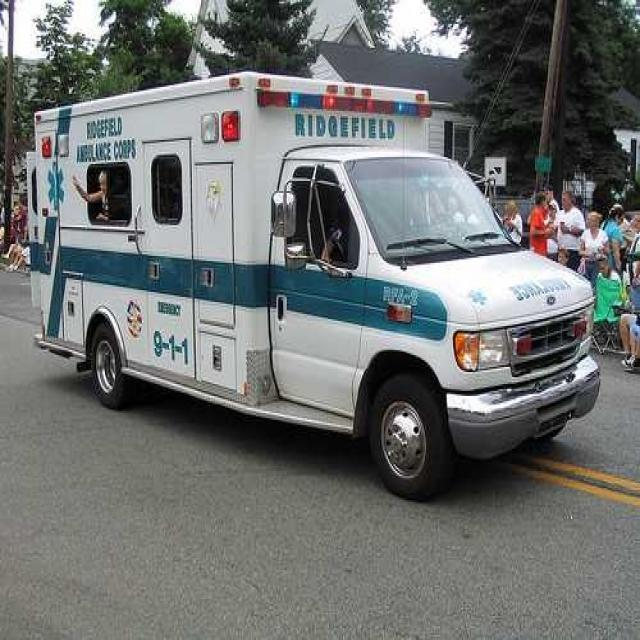emergency-vehicle: (35, 73, 588, 474)
